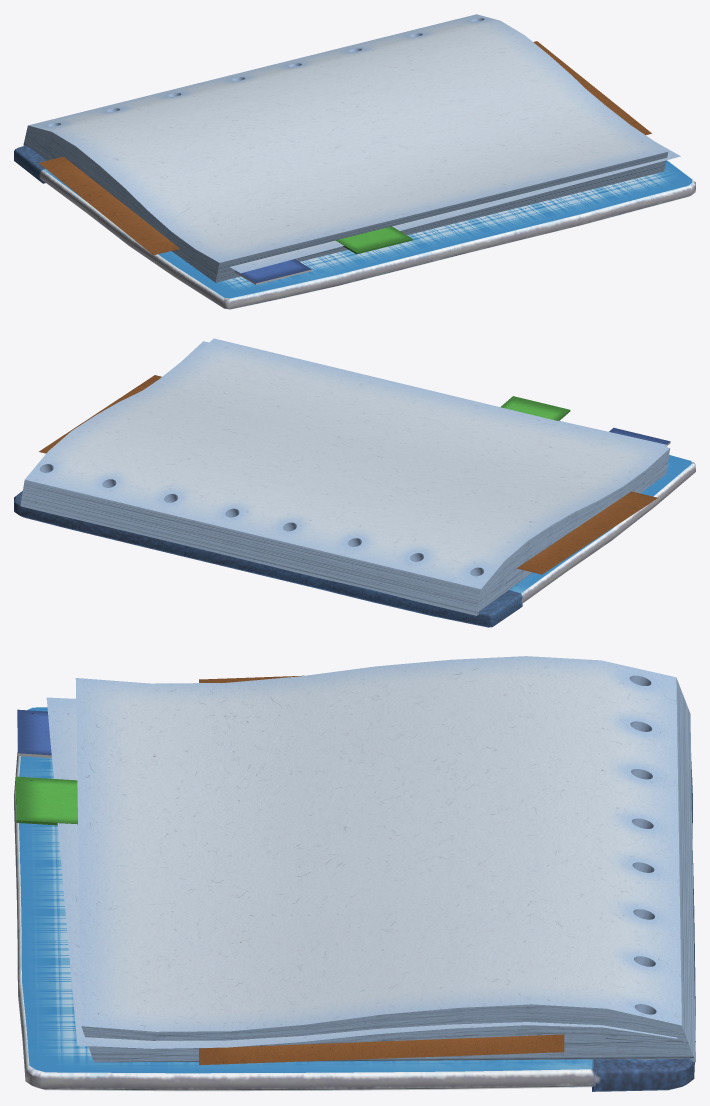
Rendered from RecipeBook_Front.fbx.
3 views of the same model, one above another, from view 1: azimuth 30°, elevation 25°; view 2: azimuth 150°, elevation 25°; view 3: azimuth 270°, elevation 25° (orthographic). The views are drawn at different scales.
Visible parts, largest first — view 1: RecipeBook_Front; view 2: RecipeBook_Front; view 3: RecipeBook_Front.
Part boxes in pixels (left/top/right/bottom): RecipeBook_Front: left=14, top=14, right=695, bottom=309; RecipeBook_Front: left=14, top=338, right=695, bottom=627; RecipeBook_Front: left=14, top=656, right=695, bottom=1091.
Bounding box in the file's own units: 4.9 × 0.4749 × 3.66.
7 materials, 6 textured.
